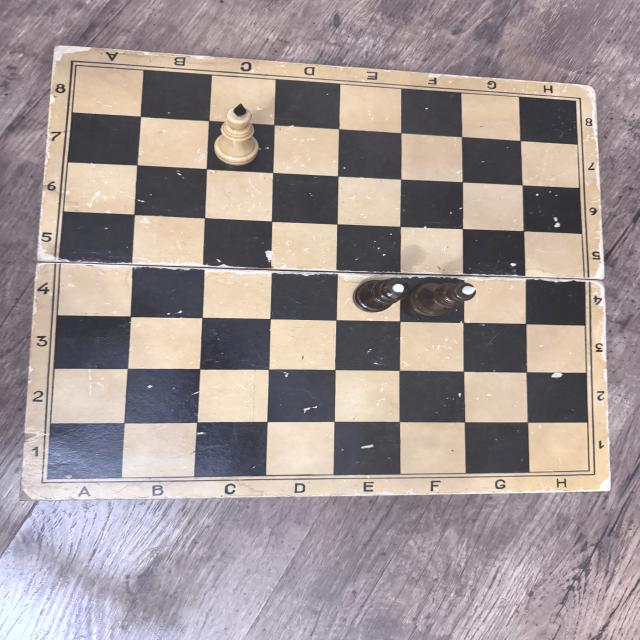black-king: (410, 280, 476, 318)
black-queen: (352, 278, 412, 312)
white-king: (213, 104, 262, 166)
